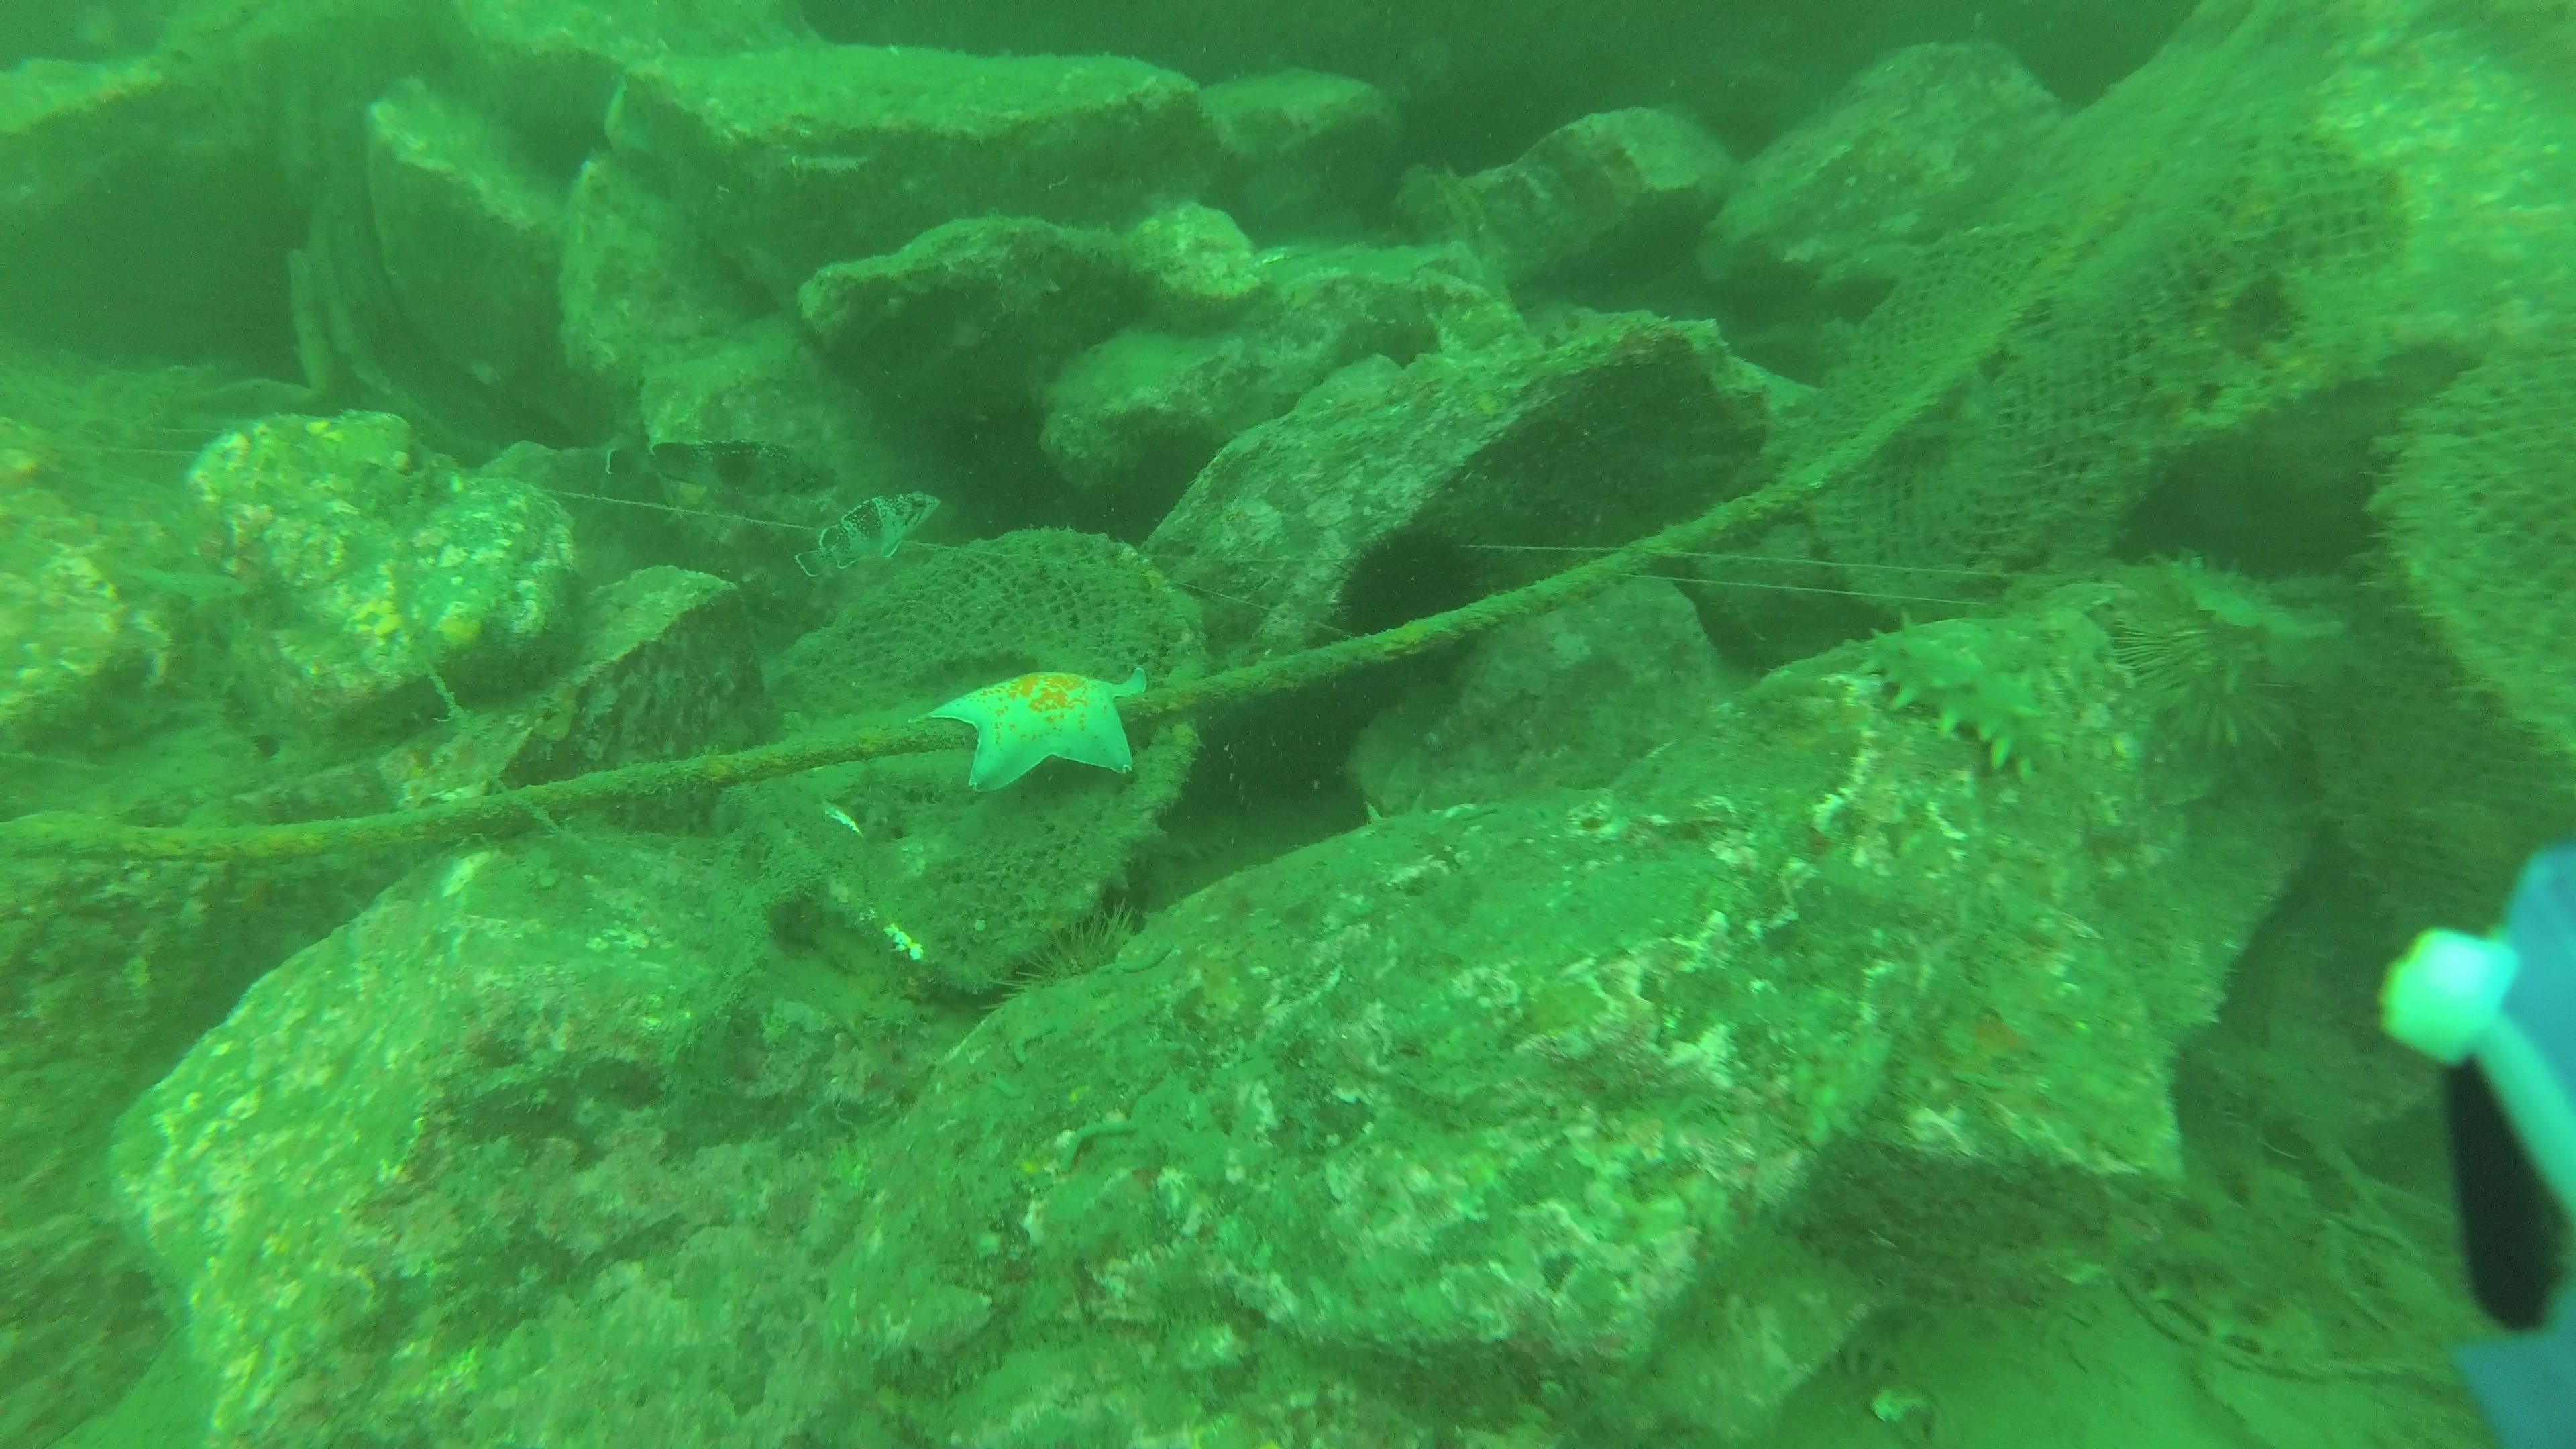echinus: (2107, 559, 2319, 764), (957, 867, 1168, 1072)
holothurian: (1849, 610, 2063, 784)
starfish: (924, 660, 1155, 801)
